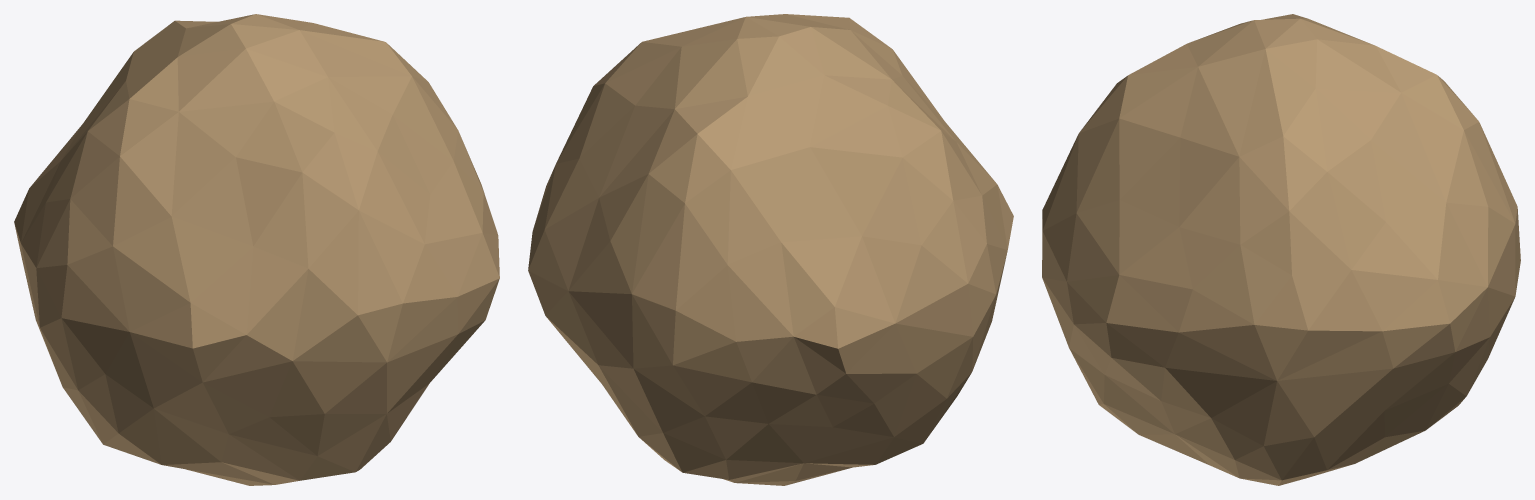
Rendered from Wool_Alpaca.fbx.
3 views of the same model, side by side, from view 1: azimuth 30°, elevation 25°; view 2: azimuth 150°, elevation 25°; view 3: azimuth 270°, elevation 25° (orthographic).
Visible parts, largest first — view 1: Wool_Alpaca; view 2: Wool_Alpaca; view 3: Wool_Alpaca.
Boxes of the visible parts, box(x1,y1,x2,y2) form: Wool_Alpaca: box(14, 14, 499, 485); Wool_Alpaca: box(528, 14, 1013, 485); Wool_Alpaca: box(1042, 14, 1520, 485).
Size of the model in its own units: 0.4988 by 0.5048 by 0.494.
